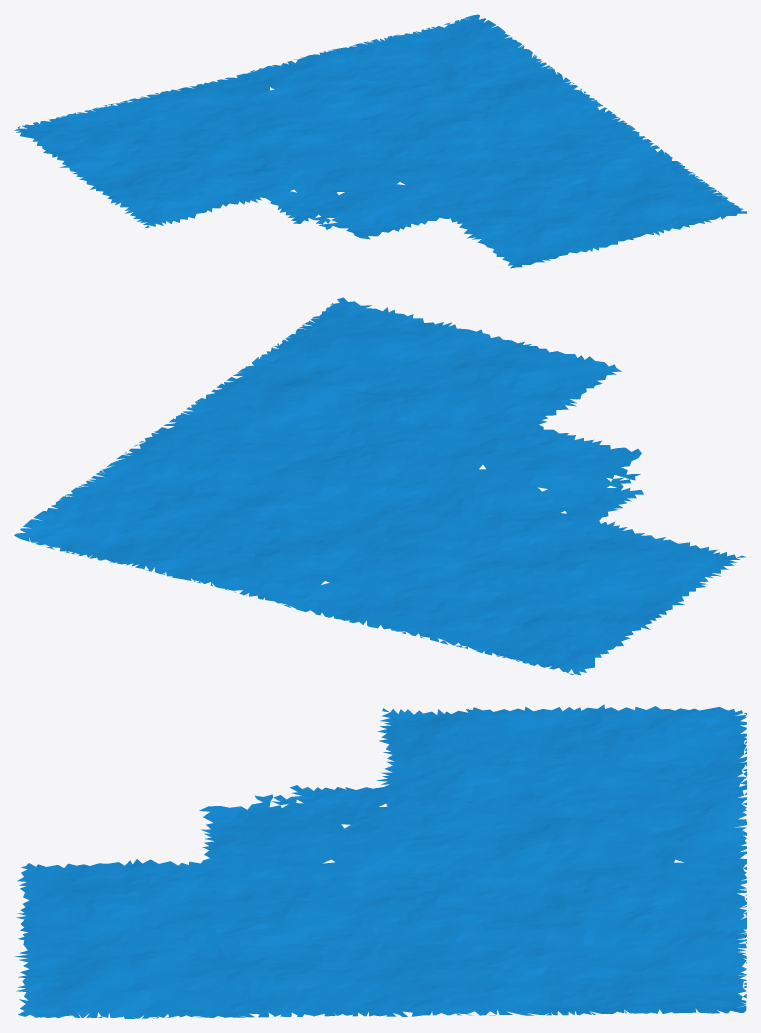
File: ChunkPrefab1.fbx
The picture shows the model from 3 angles, top to bottom: view 1: azimuth 30°, elevation 25°; view 2: azimuth 150°, elevation 25°; view 3: azimuth 270°, elevation 25°; orthographic projection. The views are drawn at different scales.
Parts seen in each view (by area): view 1: ChunkPrefab_Clone_; view 2: ChunkPrefab_Clone_; view 3: ChunkPrefab_Clone_.
Boxes of the visible parts, box(x1,y1,x2,y2) form: ChunkPrefab_Clone_: box(14, 14, 746, 268); ChunkPrefab_Clone_: box(14, 297, 746, 675); ChunkPrefab_Clone_: box(14, 704, 746, 1018).
Bounding box in the file's own units: 50793 × 468 × 50638.
